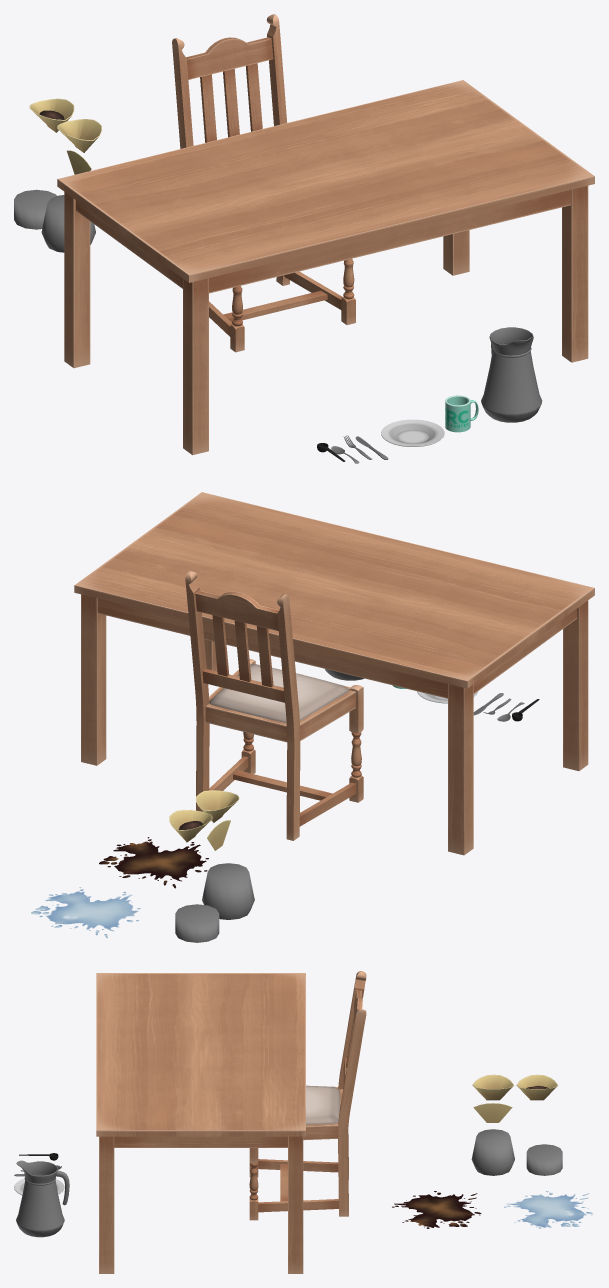
Rendered from KitchenAssets.fbx.
3 renders of one model, top to bottom at view 1: azimuth 30°, elevation 25°; view 2: azimuth 150°, elevation 25°; view 3: azimuth 270°, elevation 25°, orthographic. The views are drawn at different scales.
Visible parts, largest first — view 1: Table, Chair, Waterjug, plate, Coffee, water, mug, Filterbag_open, Filterbag; view 2: Table, Chair, CoffeeSpilled, WaterSpilled, water, Coffee, Filterbag_open, Filterbag; view 3: Table, Chair, Waterjug, CoffeeSpilled, WaterSpilled, water, Coffee, Filterbag_open, Filterbag, Filterbag_closed.
Part boxes in pixels (x1,y1,x2,y2): Table: (57,80,594,455); Chair: (172,14,355,352); Waterjug: (481,327,542,422); plate: (381,419,444,446); Coffee: (14,189,56,229); water: (41,195,95,252); mug: (445,395,478,432); Filterbag_open: (57,119,101,152); Filterbag: (29,98,74,132); Table: (74,492,594,855); Chair: (185,571,363,840); CoffeeSpilled: (99,837,208,888); WaterSpilled: (31,887,140,938); water: (202,863,254,919); Coffee: (175,904,219,942); Filterbag_open: (196,790,239,822); Filterbag: (169,810,212,842); Table: (96,973,305,1273); Chair: (249,971,366,1220); Waterjug: (16,1160,69,1237); CoffeeSpilled: (392,1191,481,1228); WaterSpilled: (504,1191,593,1228); water: (471,1129,514,1175); Coffee: (526,1144,562,1175); Filterbag_open: (472,1074,513,1100); Filterbag: (516,1074,558,1100); Filterbag_closed: (473,1103,512,1122).
Bounding box in the file's own units: 168 × 104 × 261.
